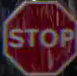Stop: (2, 1, 76, 73)
